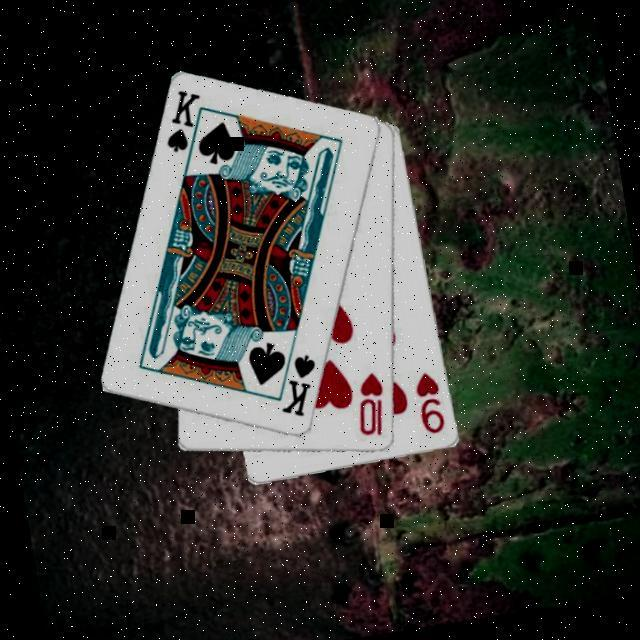10H: (351, 366, 396, 439)
9H: (413, 365, 451, 437)
KS: (158, 82, 218, 167), (273, 349, 329, 421)
